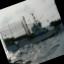fishing boat: (0, 2, 64, 57)
